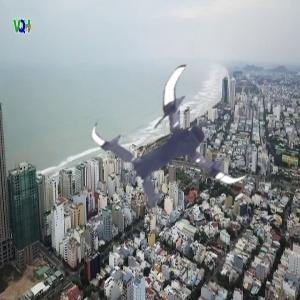drone: (106, 70, 255, 219)
